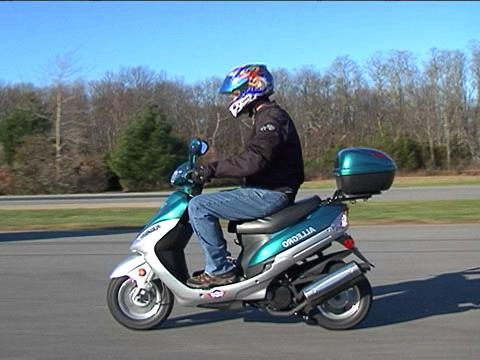With Helmet: (222, 55, 279, 118)
